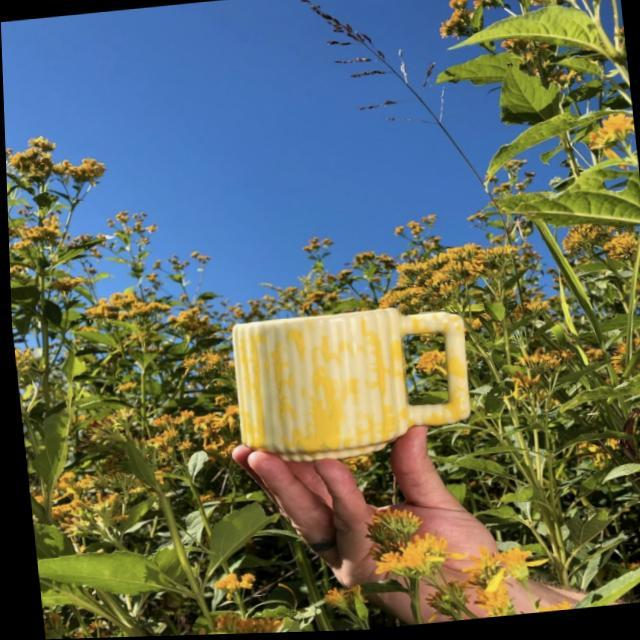cup: (183, 300, 472, 487)
